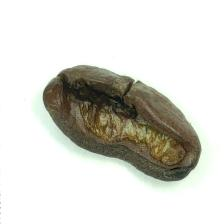NG: (64, 77, 148, 154), (149, 107, 200, 183)
